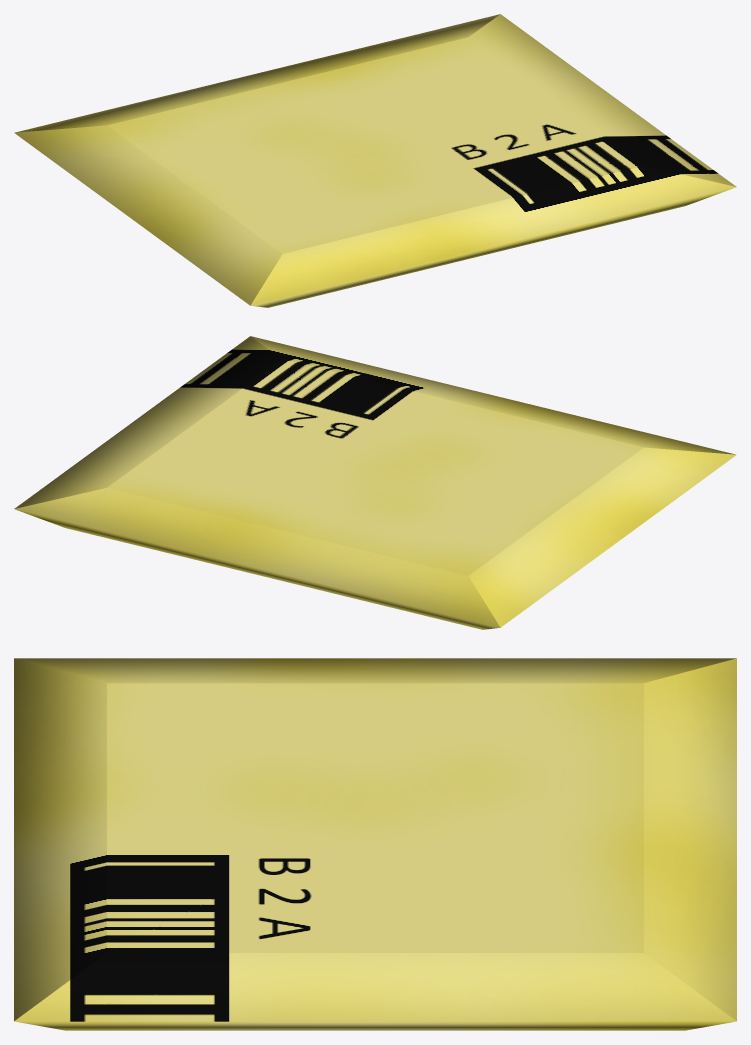
File: Package4.fbx
3 views of the same model, one above another, from view 1: azimuth 30°, elevation 25°; view 2: azimuth 150°, elevation 25°; view 3: azimuth 270°, elevation 25° (orthographic). The views are drawn at different scales.
Parts seen in each view (by area): view 1: softshell_package6; view 2: softshell_package6; view 3: softshell_package6.
Boxes of the visible parts, <box> form: softshell_package6: <box>14,14,736,307</box>; softshell_package6: <box>14,336,736,629</box>; softshell_package6: <box>14,658,736,1030</box>.
Bounding box in the file's own units: 4.6 × 0.3361 × 3.87.
Materials: 1 (1 with a texture image).
